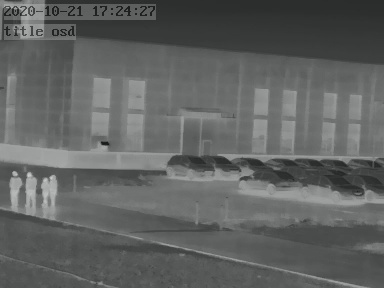person: (10, 169, 24, 209), (43, 173, 57, 208), (25, 170, 38, 207)
vehicle: (304, 173, 360, 200), (237, 171, 300, 192), (164, 153, 213, 178), (349, 174, 383, 200), (204, 154, 242, 176), (233, 155, 270, 171), (349, 155, 380, 169), (262, 156, 295, 169), (296, 156, 324, 169), (319, 156, 347, 169)
